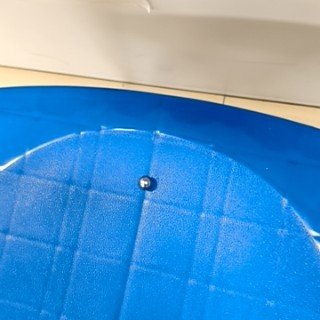ironball: (128, 170, 160, 191)
